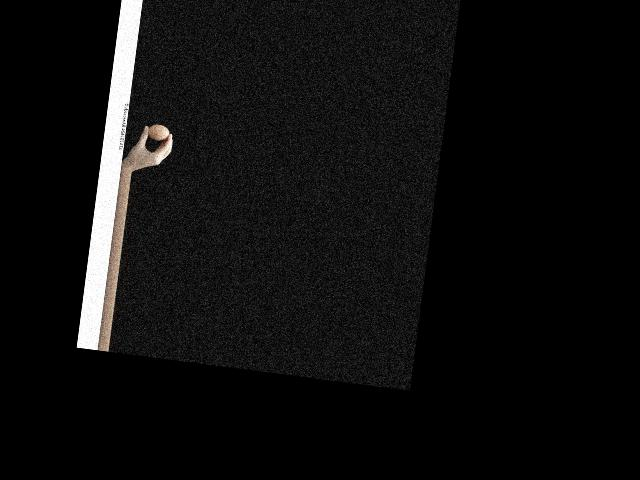egg: (147, 123, 170, 141)
